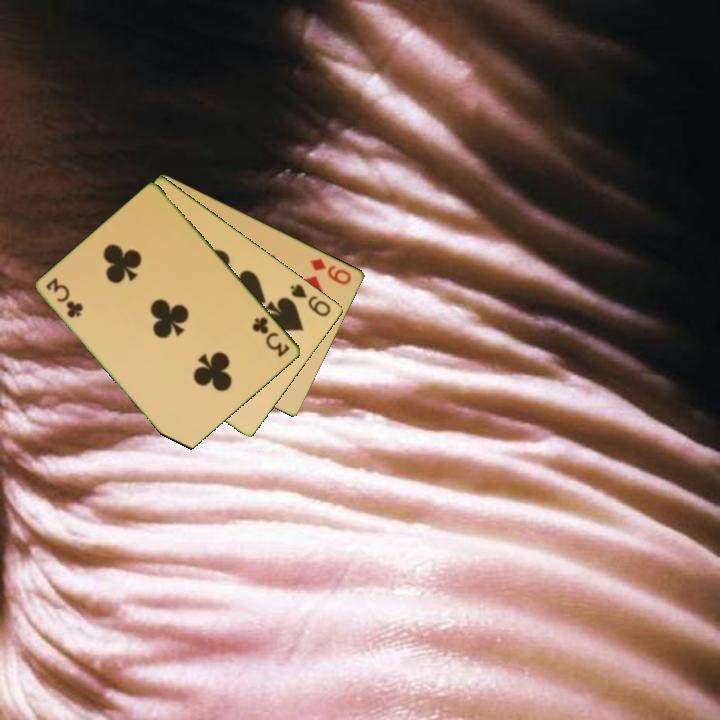3c: (249, 313, 293, 360), (43, 274, 86, 321)
9d: (307, 254, 355, 288)
9s: (287, 280, 334, 320)
